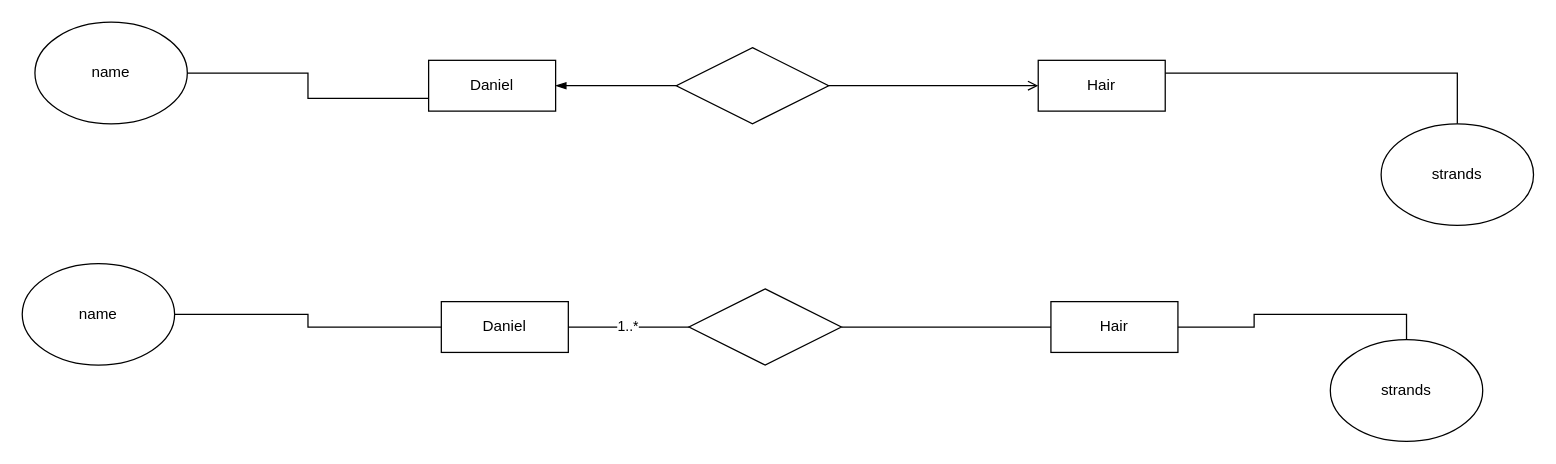
The diagram is 1556 pixels wide and 464 high, and some of its shapes have lost their labels. The shapes that lost their labels are listed below. From the top down, each one's centre as x and y in pixels, then its label:
the point at 752,85: is
the point at 764,326: twas
